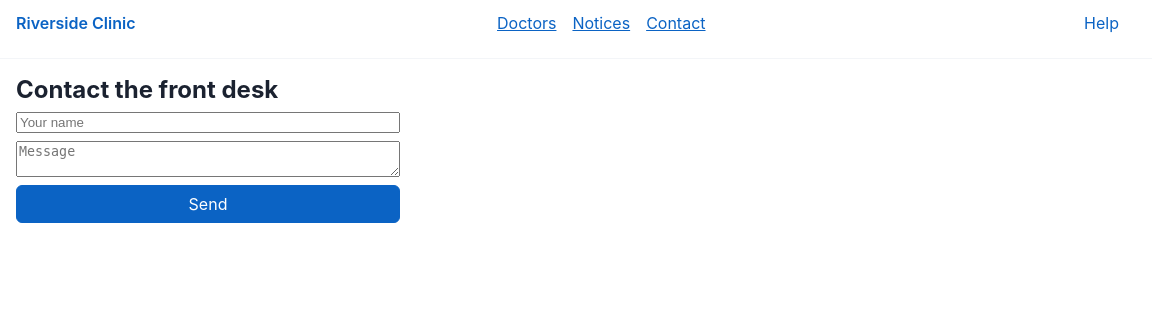
contact › tells a refusal in the same place
The width and height of the screenshot is (1152, 309).
Click the button "Send": click(208, 204) [16,185,400,223]
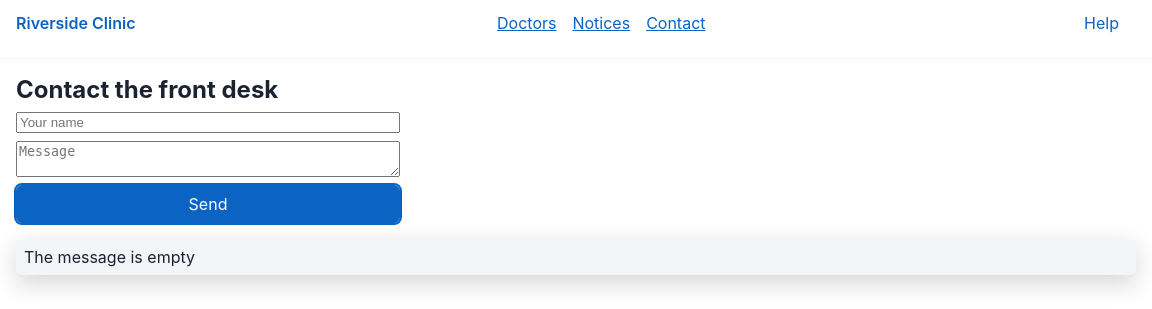
Result: the text "The message is empty" is shown at [16,239,1136,275]
